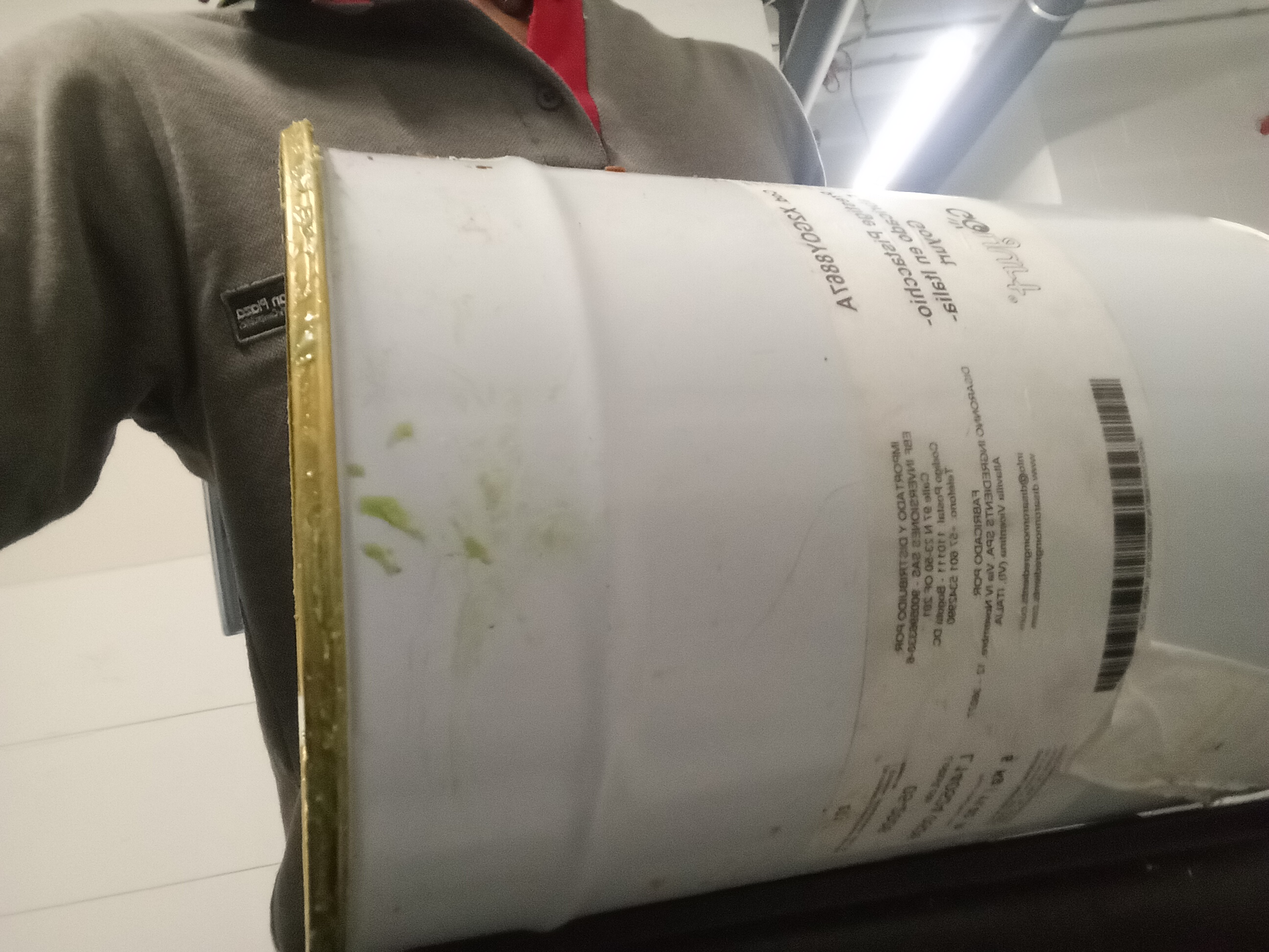Metal: (283, 155, 1269, 952)
